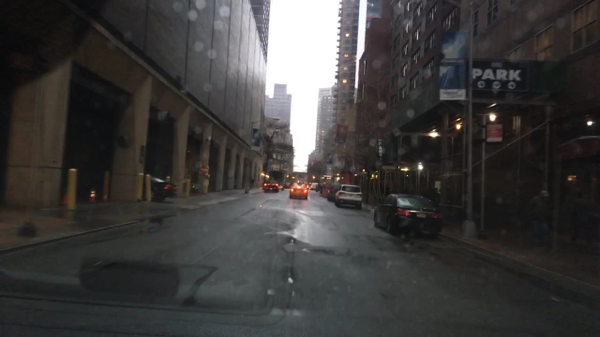car: (372, 195, 444, 235), (142, 170, 176, 204), (334, 184, 361, 207), (288, 180, 308, 200), (327, 182, 339, 200), (261, 180, 279, 191), (317, 183, 327, 195), (302, 181, 309, 189), (276, 183, 283, 191), (310, 184, 318, 191), (285, 183, 291, 187)
person: (527, 189, 550, 251), (381, 185, 388, 198)
traffic light: (312, 172, 315, 181), (286, 172, 289, 180)
traffic sign: (197, 165, 208, 174)
